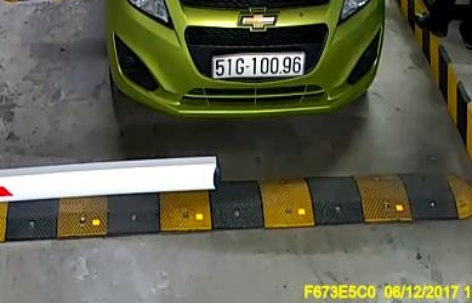plate: (206, 49, 305, 83)
